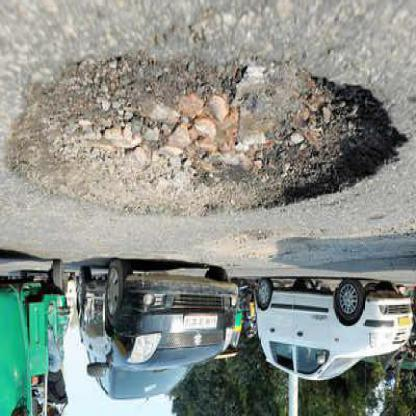pothole: (4, 52, 410, 223), (206, 231, 294, 265)
